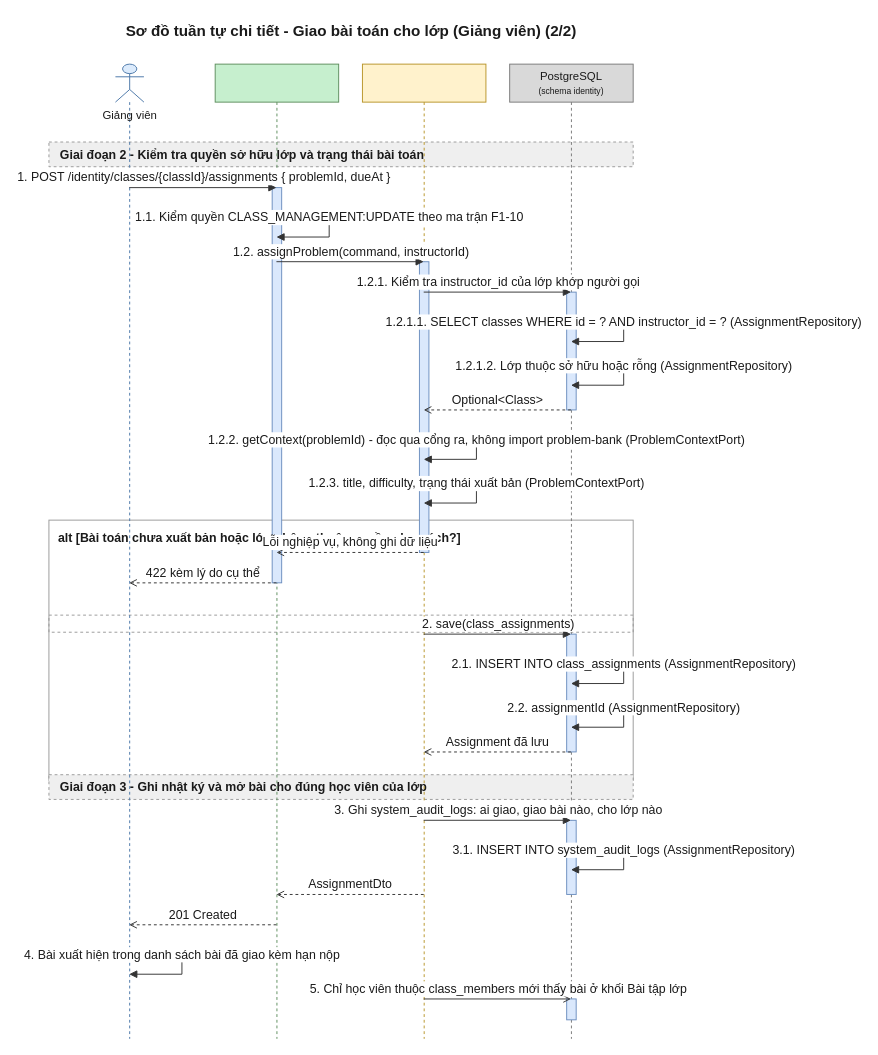
The diagram is 878 pixels wide and 1055 high, and some of its shapes have lost their labels. The centre of each missing label's shape, as x and y in pixels:
"AssignmentController (presentation)" belongs at pixel 276 551.
"AssignmentService (application)" belongs at pixel 423 551.
"else" belongs at pixel 340 623.
